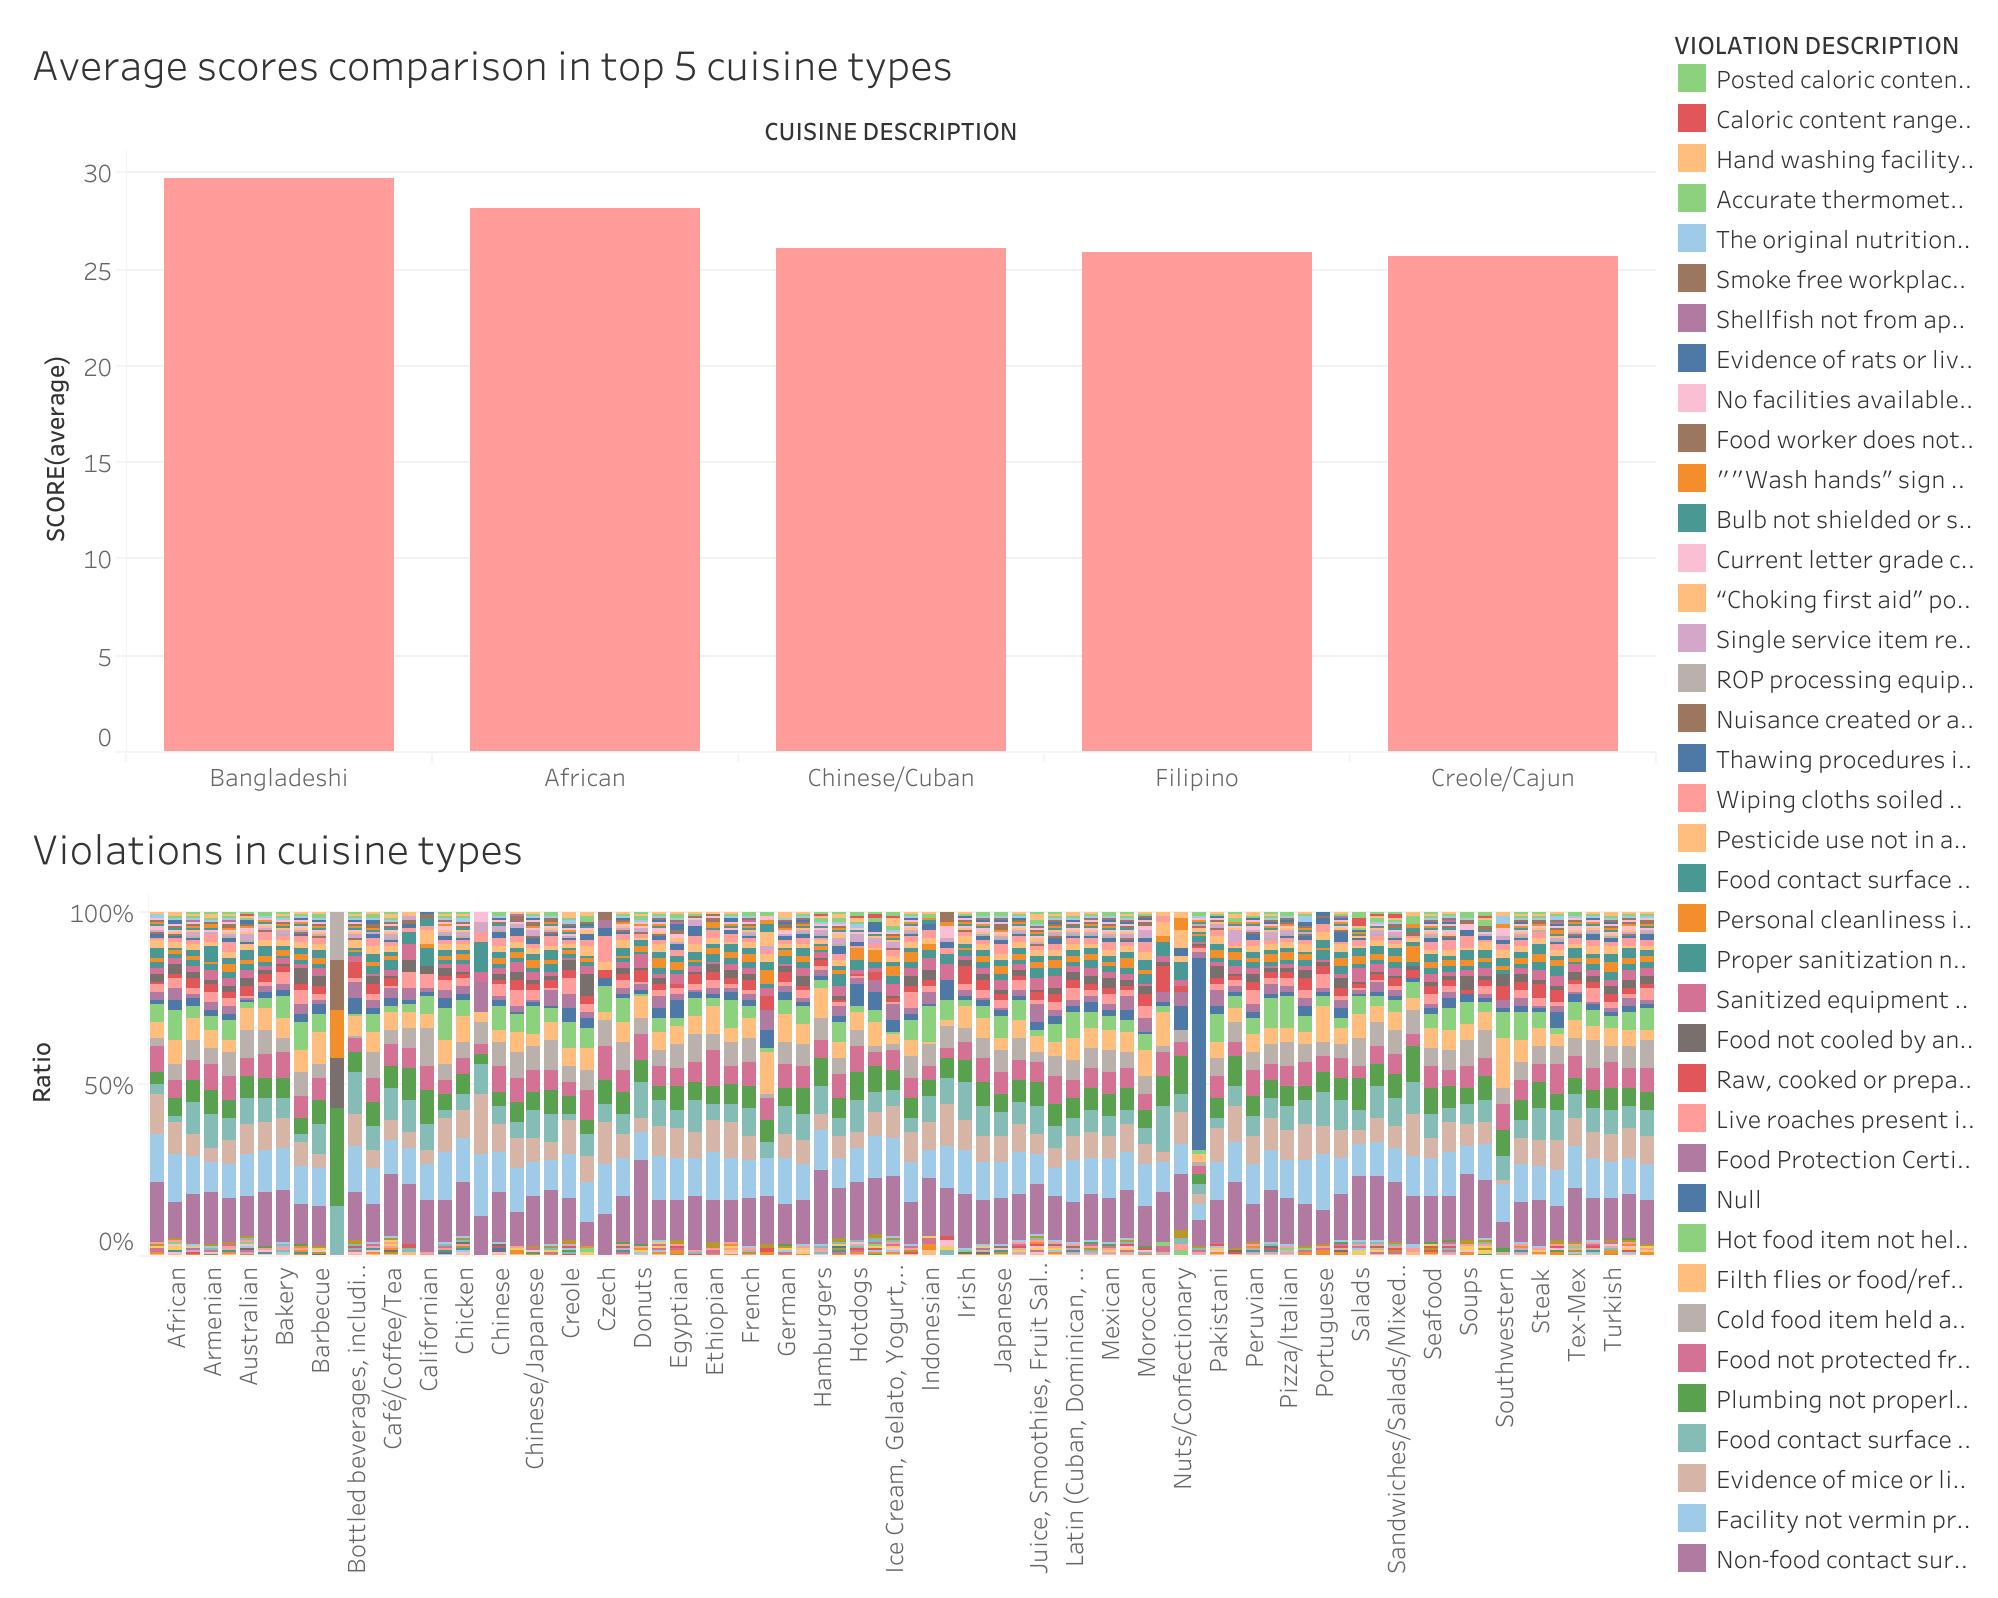

The page's visual inventory and layout, read from the dashboard file:
{"tool":"tableau","page":{"name":"Dashboard2","canvas":[1000,800],"ordinal":1},"visuals":[{"type":"worksheet","title":"Average scores comparison in top 5 cuisine types","mark":"Automatic","rows":["SCORE"],"cols":["CUISINE DESCRIPTION"],"box":[8,8,824,392]},{"type":"legend","title":"Violations in cuisine types","param":"[federated.1rqrh0i1q1i4zn12uevsd094t6z5].[none:VIOLATION DESCRIPTION:nk]","box":[832,8,160,784]},{"type":"worksheet","title":"Violations in cuisine types","mark":"Automatic","cols":["CUISINE DESCRIPTION"],"box":[8,400,824,392]}]}

Visuals, with their boxes in screenshot pixels (x1, y1, x2, y2), scaled from the page's 1000x800 canvas onto the 1998x1598 screenshot:
"Average scores comparison in top 5 cuisine types" worksheet: {"x1": 16, "y1": 16, "x2": 1662, "y2": 799}
"Violations in cuisine types" legend: {"x1": 1662, "y1": 16, "x2": 1982, "y2": 1582}
"Violations in cuisine types" worksheet: {"x1": 16, "y1": 799, "x2": 1662, "y2": 1582}
